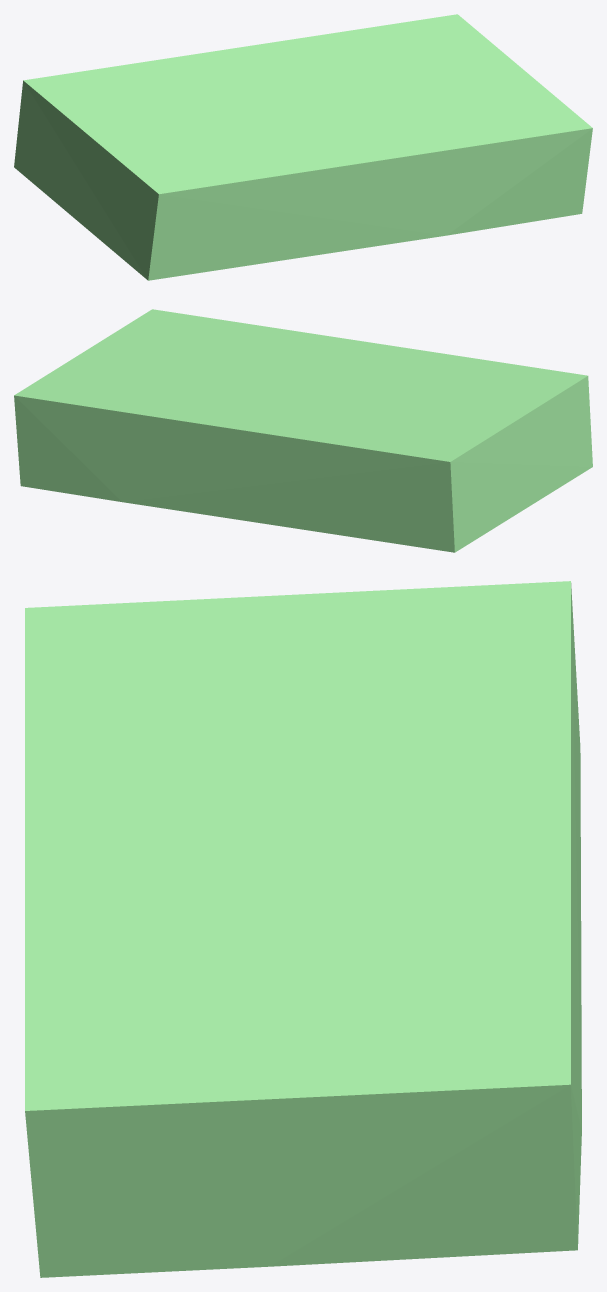
File: UMIRobot_UMIRobot_link_5_convex_coll_75.dae
3 renders of one model, top to bottom at view 1: azimuth 30°, elevation 25°; view 2: azimuth 150°, elevation 25°; view 3: azimuth 270°, elevation 25°, orthographic. The views are drawn at different scales.
Visible parts, largest first — view 1: node; view 2: node; view 3: node.
Boxes of the visible parts, x1=… form: node: x1=14, y1=14, x2=592, y2=280; node: x1=14, y1=309, x2=592, y2=552; node: x1=25, y1=581, x2=581, y2=1277.
Size of the model in its own units: 0.0228 by 0.0069 by 0.0124.
